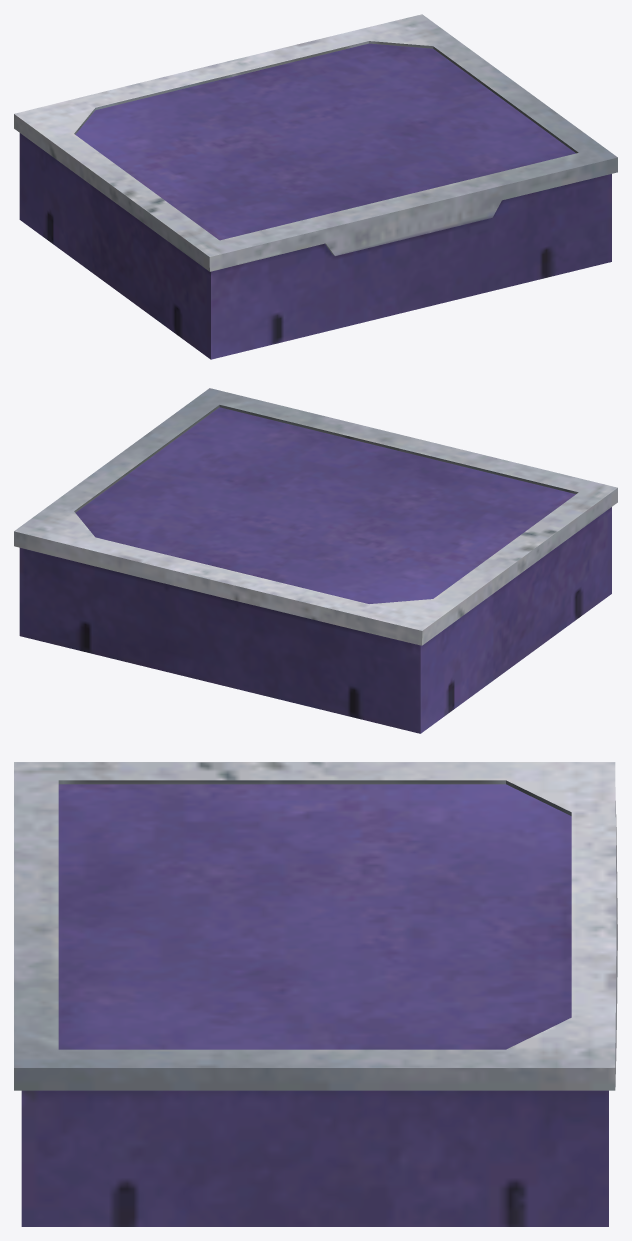
Rendered from box_plastic.DAE.
3 views of the same model, one above another, from view 1: azimuth 30°, elevation 25°; view 2: azimuth 150°, elevation 25°; view 3: azimuth 270°, elevation 25° (orthographic). The views are drawn at different scales.
Visible parts, largest first — view 1: box_plastic; view 2: box_plastic; view 3: box_plastic.
Boxes of the visible parts, x1,y1,x2,y2 form: box_plastic: (14,14,617,359); box_plastic: (14,388,617,733); box_plastic: (14,762,617,1226).
Size of the model in its own units: 12.14 by 2.99 by 10.13.
